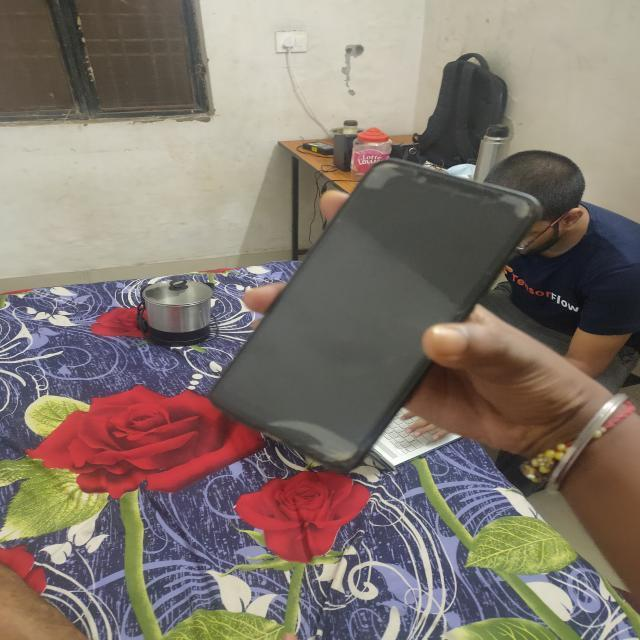Phone: (208, 160, 542, 473)
